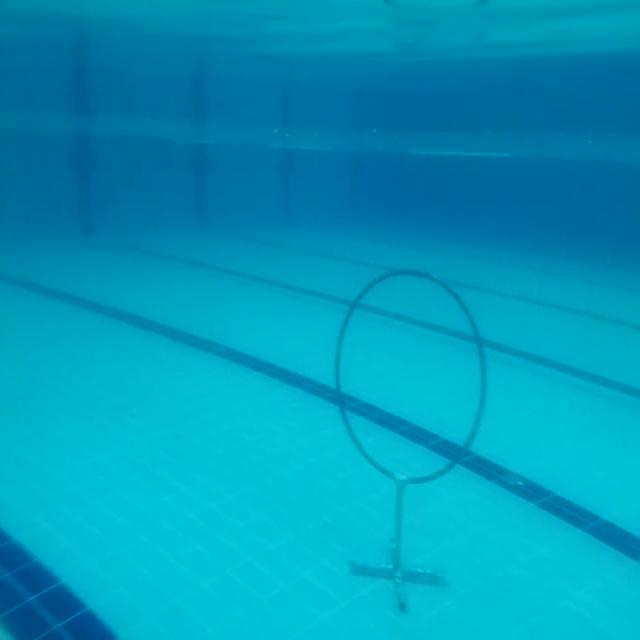Circle: (328, 263, 494, 494)
